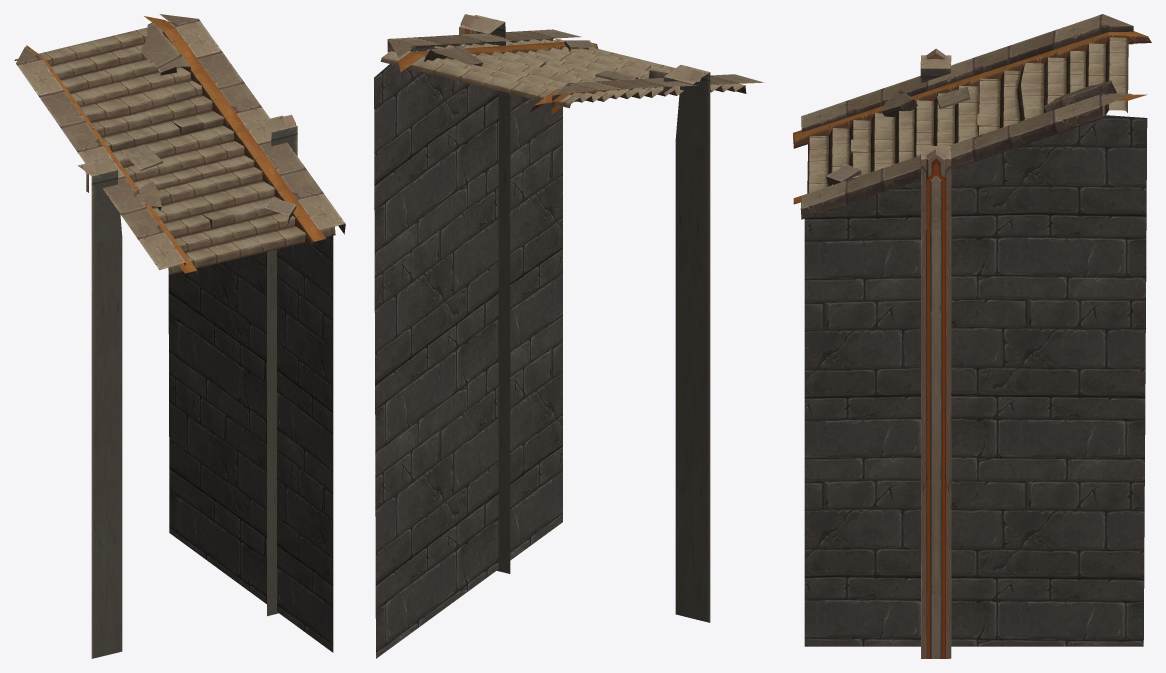
Rendered from terrain_section03_guanka1303.FBX.
The picture shows the model from 3 angles, left to right: view 1: azimuth 30°, elevation 25°; view 2: azimuth 150°, elevation 25°; view 3: azimuth 270°, elevation 25°; orthographic projection. The views are drawn at different scales.
Visible parts, largest first — view 1: terrain_section03_guanka1303; view 2: terrain_section03_guanka1303; view 3: terrain_section03_guanka1303.
Part boxes in pixels (left/top/right/bottom): terrain_section03_guanka1303: left=14, top=14, right=345, bottom=658; terrain_section03_guanka1303: left=374, top=14, right=763, bottom=658; terrain_section03_guanka1303: left=793, top=14, right=1151, bottom=658.
Bounding box in the file's own units: 11.27 × 27.32 × 16.13.
